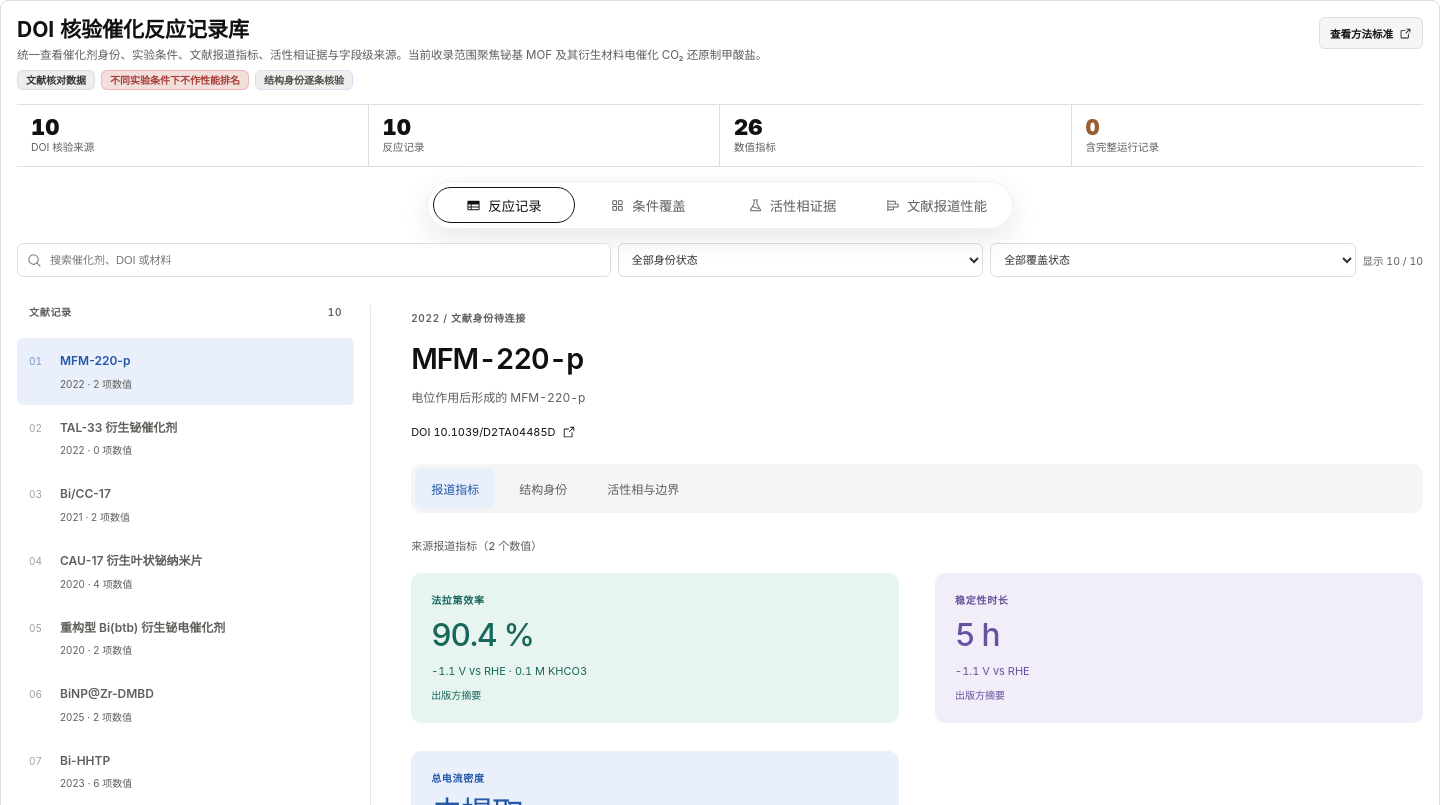
Test: CatalysisReactionRecordWorkbench › reveals identity and active-phase details on demand while keeping metrics focused
Expected: the text "结构身份与关联范围" is not shown
Click the button "结构身份".
click(543, 488)  # box [503, 468, 583, 509]
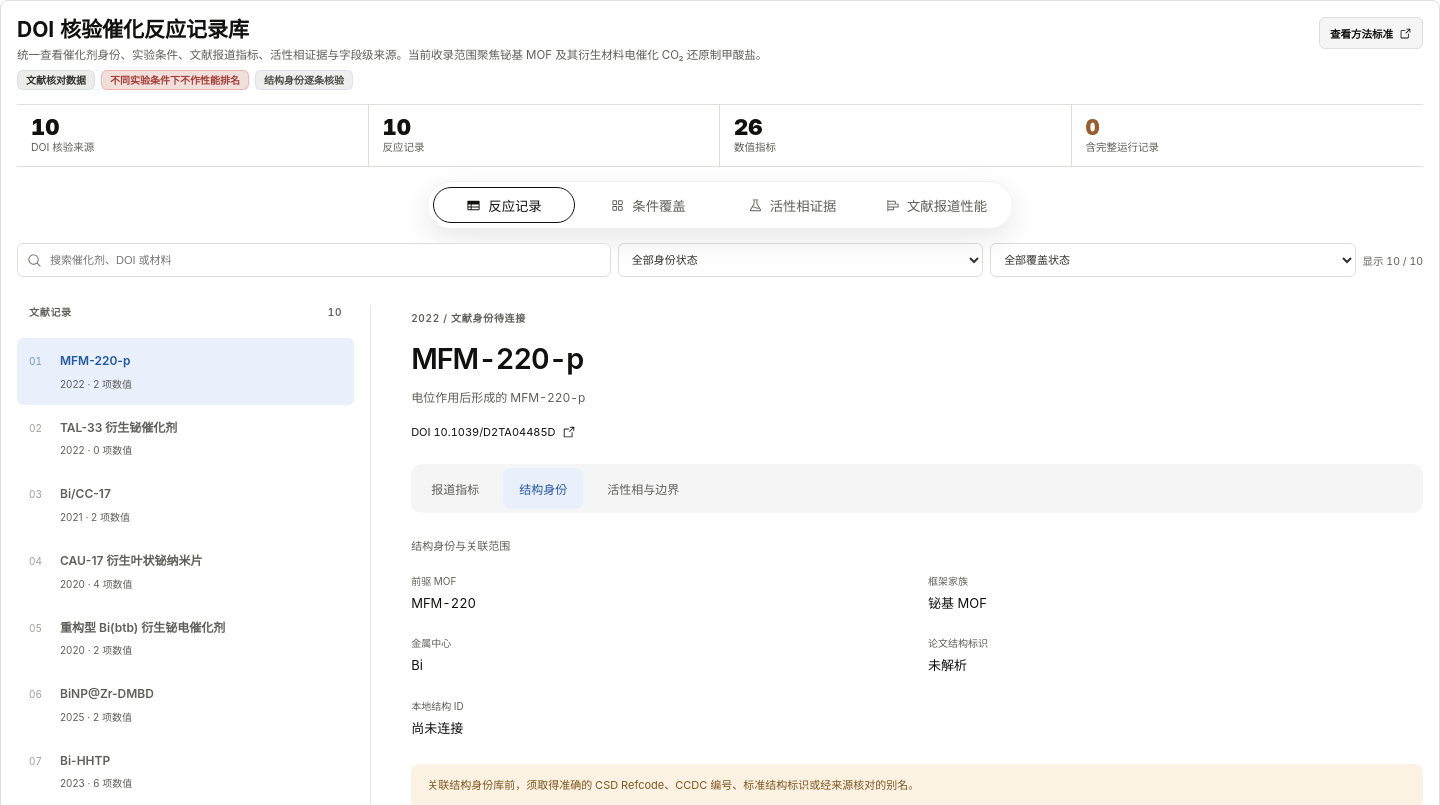
Expected: the heading "结构身份与关联范围" is shown, [411, 539, 510, 553]
Expected: the heading "来源报道指标" is gone
Click the button "活性相与边界".
click(643, 488)  # box [591, 468, 695, 509]
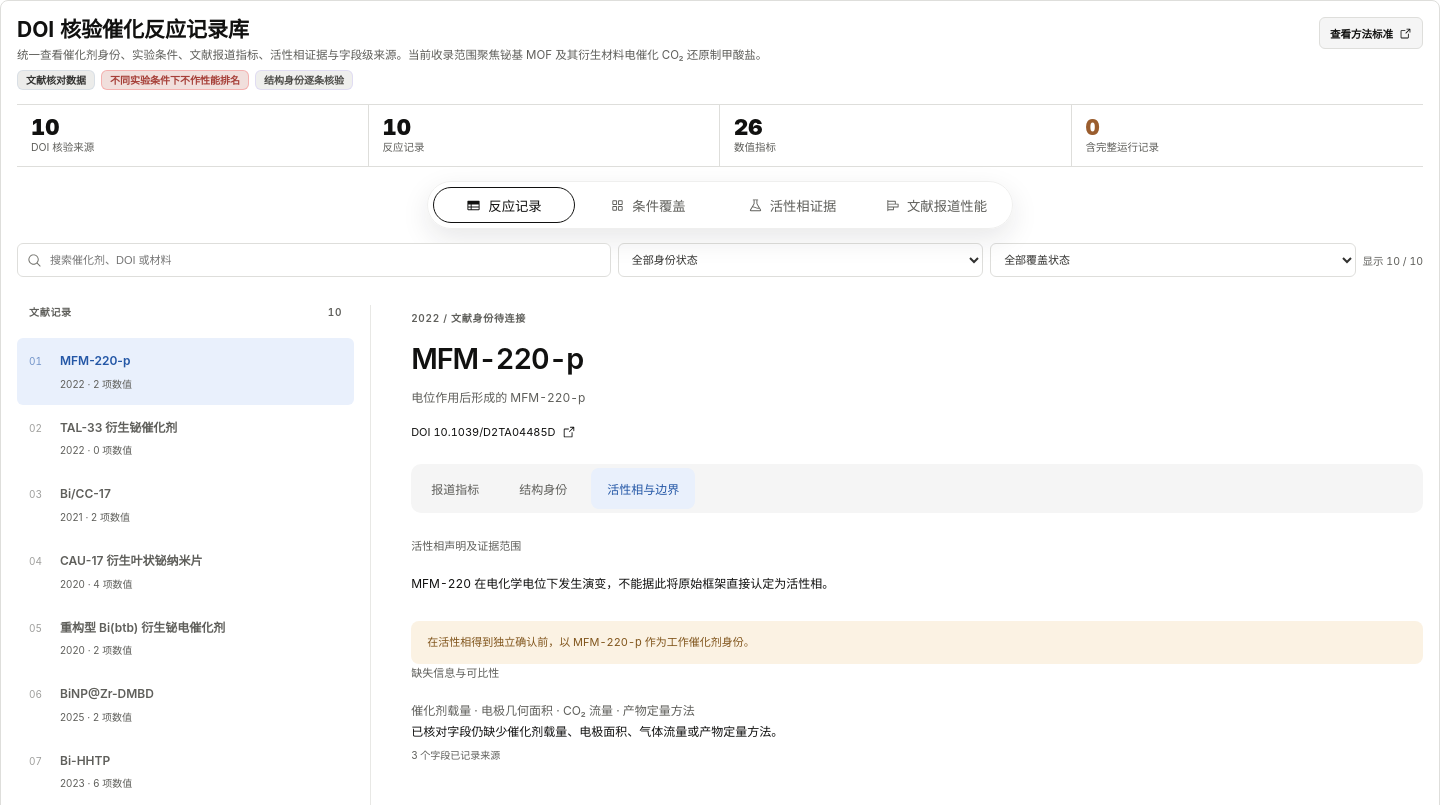
Expected: the heading "缺失信息与可比性" is shown, [411, 666, 499, 680]
